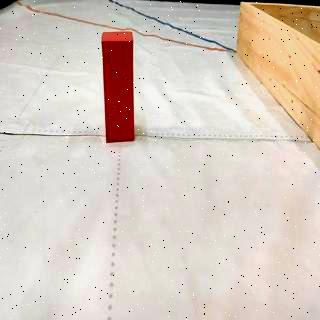redbox: (100, 31, 136, 143)
